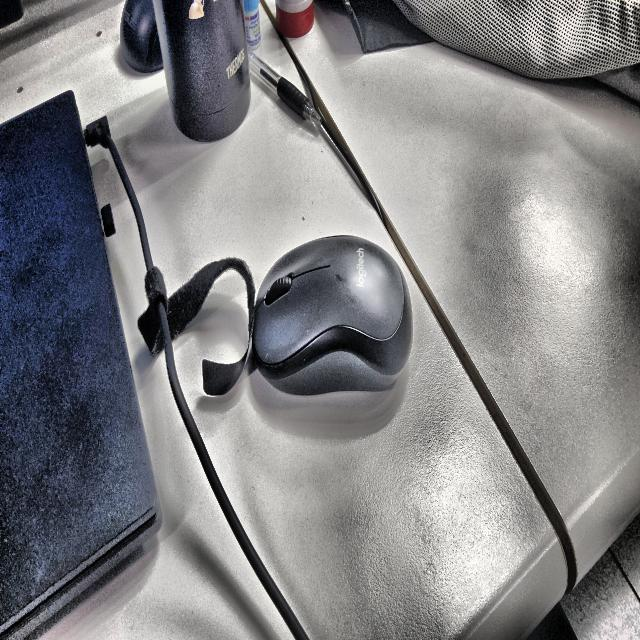Laptop: (0, 92, 161, 638)
MOUSE: (253, 236, 413, 394)
